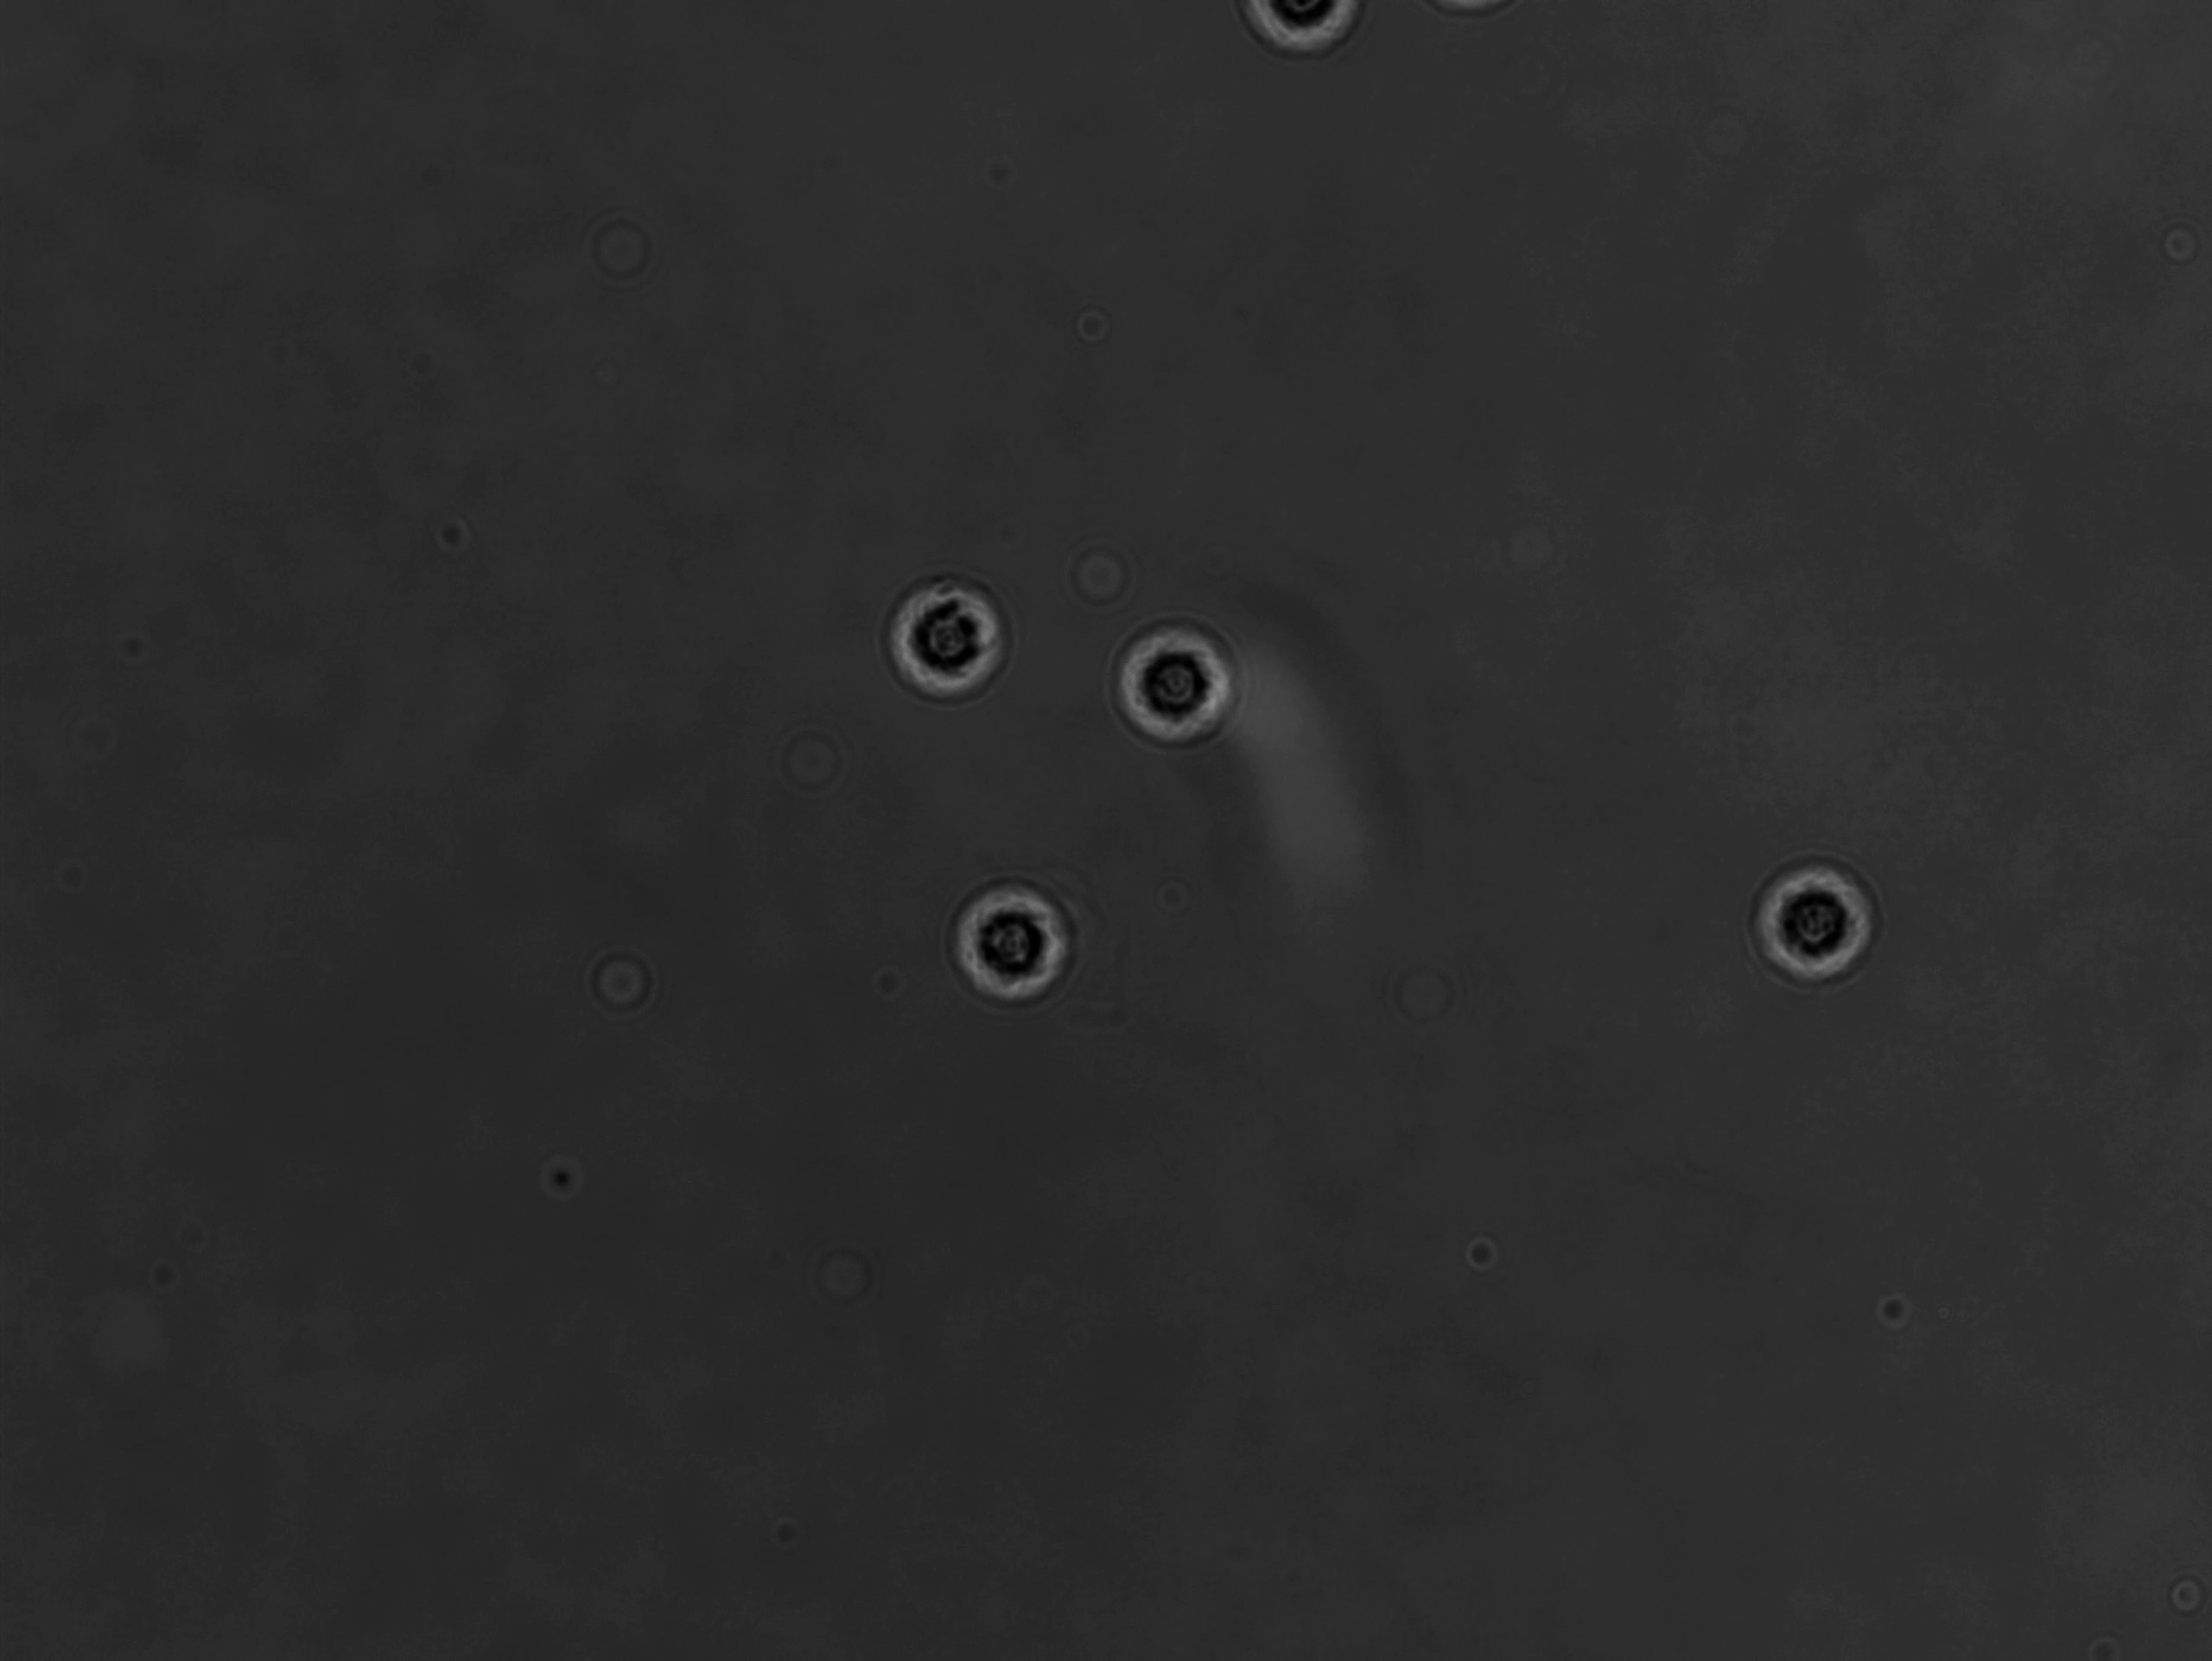depth:-20: (1739, 836, 1905, 1000), (865, 553, 1027, 715), (1099, 595, 1261, 755), (930, 857, 1096, 1014)
